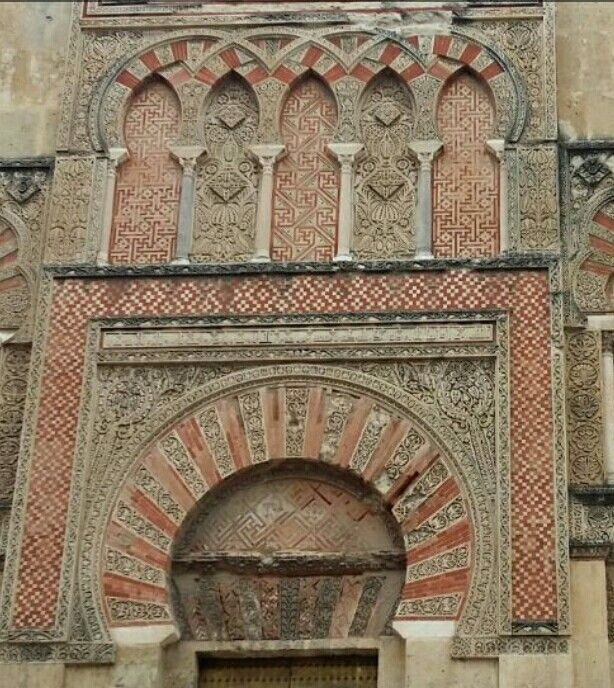arco-herradura: (141, 439, 422, 661), (347, 47, 512, 172), (107, 47, 268, 173), (269, 46, 428, 171), (194, 47, 349, 171)
